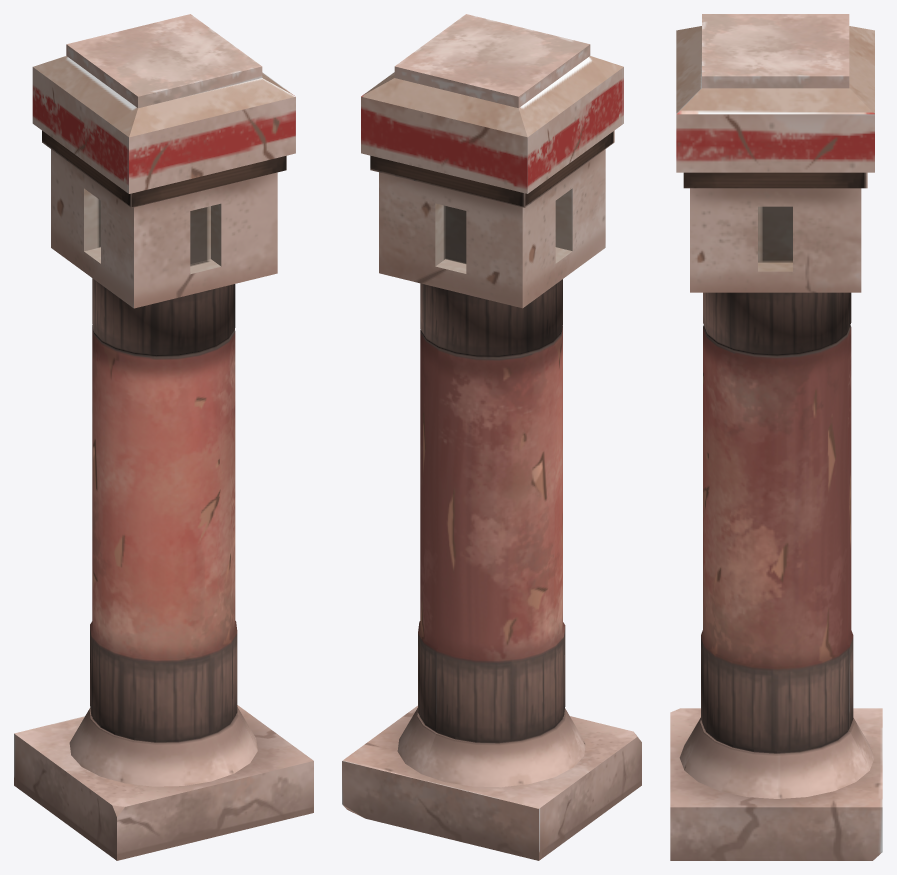
The model's file is Z1_Pillar_Tower.FBX.
3 renders of one model, left to right at view 1: azimuth 30°, elevation 25°; view 2: azimuth 150°, elevation 25°; view 3: azimuth 270°, elevation 25°, orthographic. The views are drawn at different scales.
Parts seen in each view (by area): view 1: Z1_Pillar_Tower; view 2: Z1_Pillar_Tower; view 3: Z1_Pillar_Tower.
Part boxes in pixels (box(x1,y1,x2,y2)): Z1_Pillar_Tower: box(14, 14, 313, 860); Z1_Pillar_Tower: box(342, 14, 641, 860); Z1_Pillar_Tower: box(670, 14, 882, 860).
Size of the model in its own units: 178 by 643 by 161.
